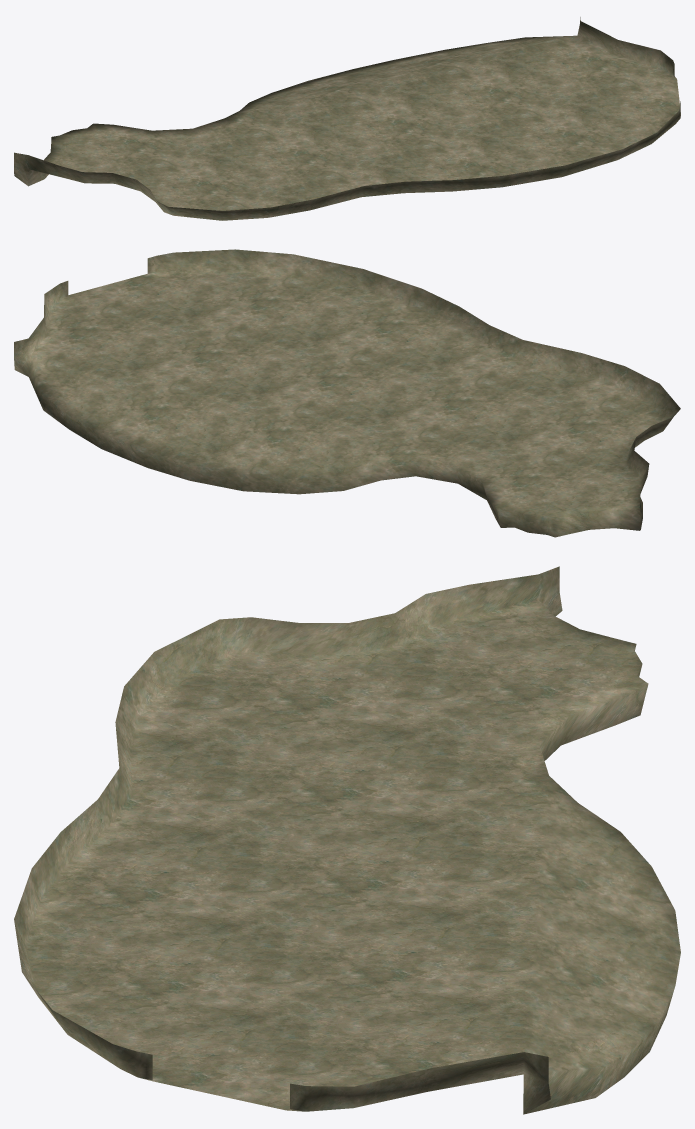
Rendered from OVERHILL_A_01_OBJECT145.fbx.
The picture shows the model from 3 angles, top to bottom: view 1: azimuth 30°, elevation 25°; view 2: azimuth 150°, elevation 25°; view 3: azimuth 270°, elevation 25°; orthographic projection. The views are drawn at different scales.
Visible parts, largest first — view 1: OVERHILL_A_01_OBJECT145; view 2: OVERHILL_A_01_OBJECT145; view 3: OVERHILL_A_01_OBJECT145.
Part boxes in pixels (x1,y1,x2,y2): OVERHILL_A_01_OBJECT145: (14,17,680,220); OVERHILL_A_01_OBJECT145: (14,249,680,537); OVERHILL_A_01_OBJECT145: (14,566,680,1114).
Size of the model in its own units: 351211 by 29617 by 190221.
Materials: 2 (2 with a texture image).
